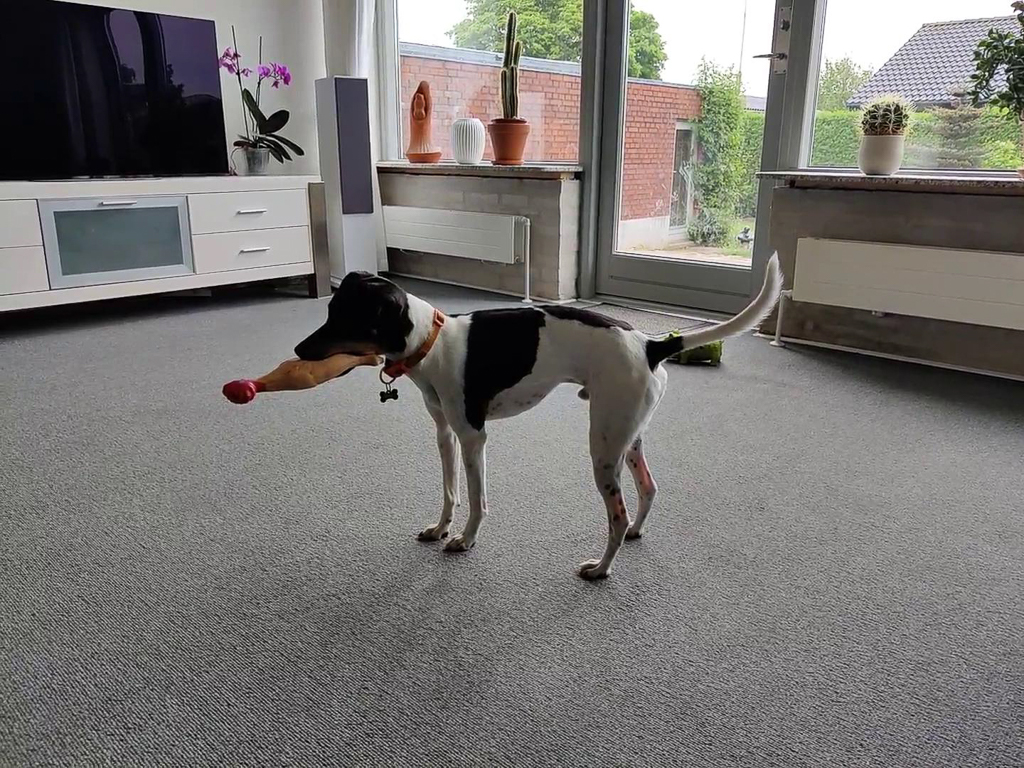Dog: (287, 239, 789, 586)
Humanoid: (398, 74, 448, 156), (733, 223, 758, 250)
